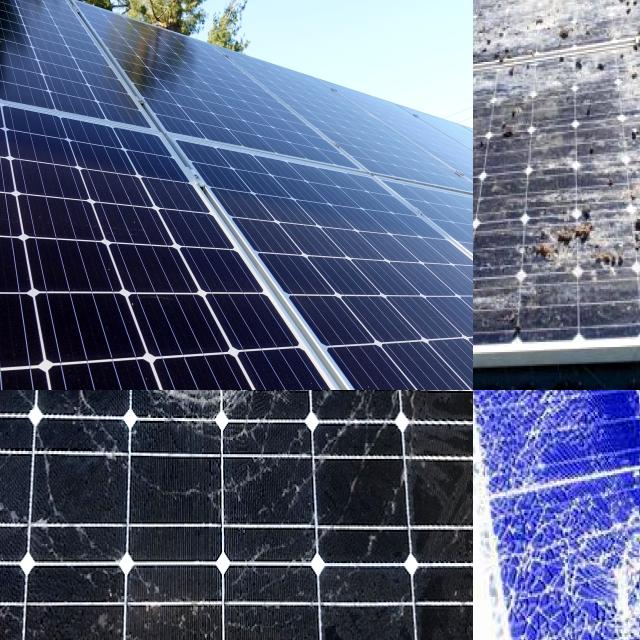bird: (524, 206, 628, 290), (473, 85, 539, 145), (555, 8, 608, 78), (473, 21, 521, 67), (622, 113, 640, 204), (607, 0, 640, 35), (473, 9, 499, 53), (626, 215, 640, 288), (473, 37, 491, 90), (622, 8, 640, 58), (473, 167, 487, 204)
crack: (0, 75, 413, 390), (161, 114, 473, 390), (54, 0, 389, 213), (212, 36, 473, 236)
hotspot: (122, 390, 282, 502), (508, 470, 555, 605)
